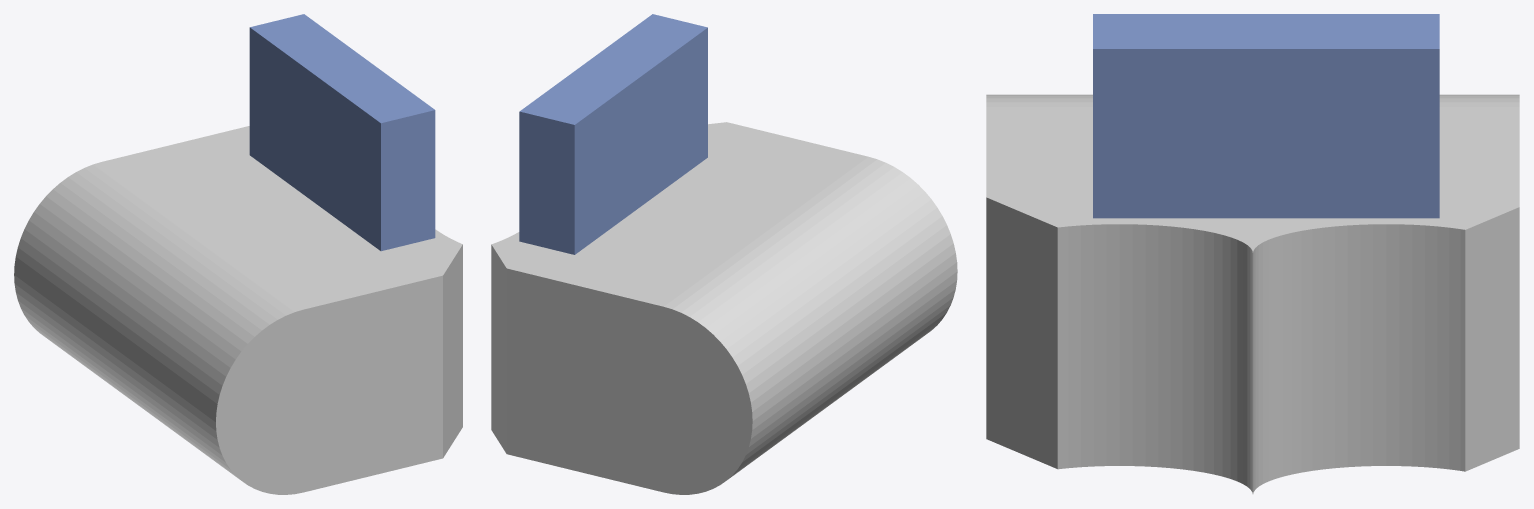
The model's file is Wrist.dae.
The picture shows the model from 3 angles, left to right: view 1: azimuth 30°, elevation 25°; view 2: azimuth 150°, elevation 25°; view 3: azimuth 270°, elevation 25°; orthographic projection. The views are drawn at different scales.
Parts seen in each view (by area): view 1: obj_0.007; view 2: obj_0.007; view 3: obj_0.007.
Boxes of the visible parts, x1,y1,x2,y2 form: obj_0.007: [14, 14, 462, 494]; obj_0.007: [491, 14, 957, 494]; obj_0.007: [986, 14, 1519, 493].
Size of the model in its own units: 0.1796 by 0.2 by 0.17.
